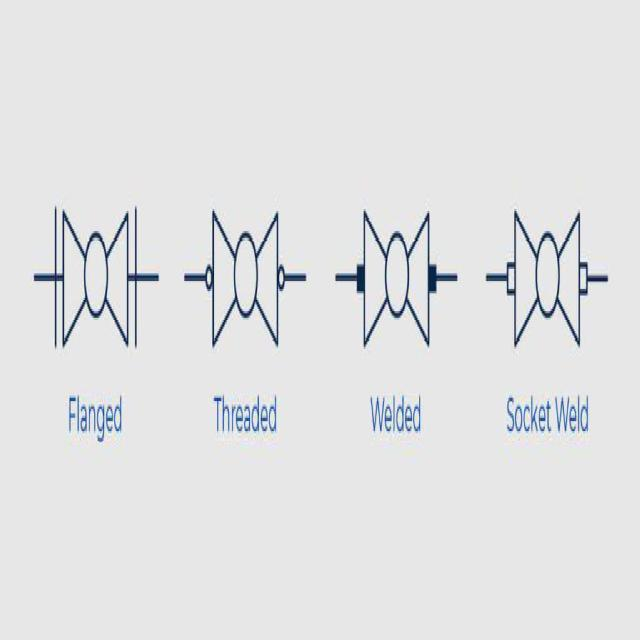Flanged: (42, 176, 154, 372)
Socket Weld: (488, 160, 602, 374)
Treaded: (195, 187, 292, 365)
Welded: (350, 192, 445, 370)
